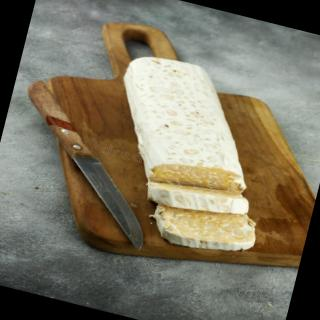Tempe: (1, 1, 320, 296), (144, 191, 262, 264), (143, 171, 253, 227)
